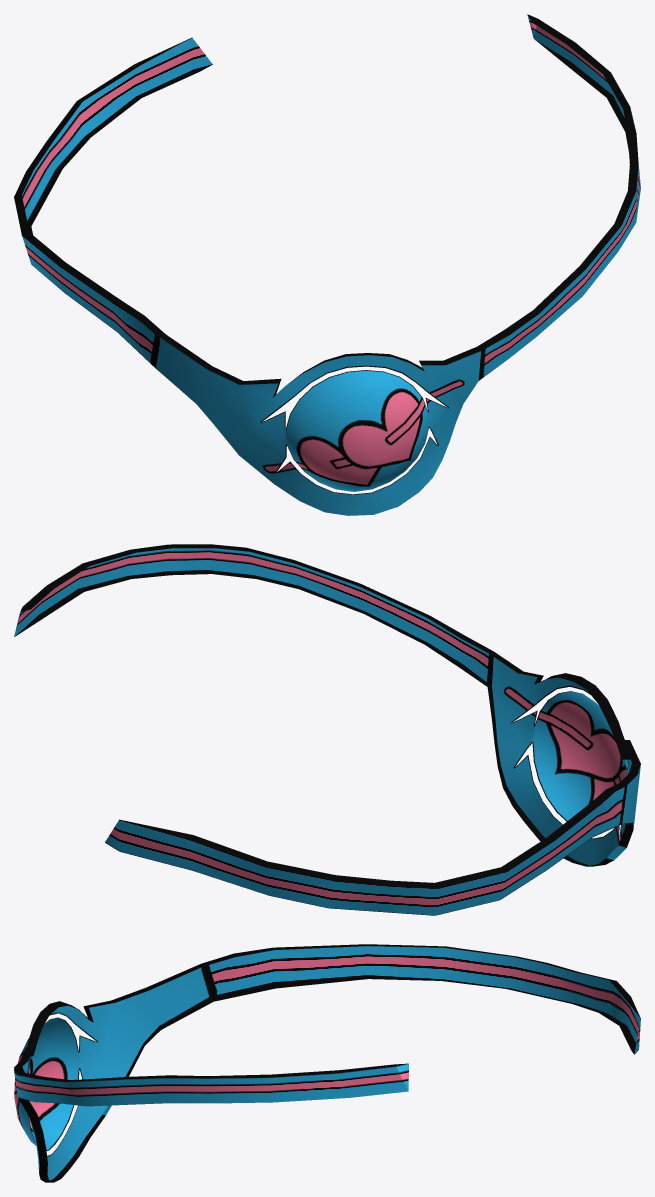
File: _headwear_004_bilibili.fbx
3 views of the same model, one above another, from view 1: azimuth 30°, elevation 25°; view 2: azimuth 150°, elevation 25°; view 3: azimuth 270°, elevation 25° (orthographic). The views are drawn at different scales.
Parts seen in each view (by area): view 1: f_headwear_004_bilibili; view 2: f_headwear_004_bilibili; view 3: f_headwear_004_bilibili.
Boxes of the visible parts, x1,y1,x2,y2 form: f_headwear_004_bilibili: (14,14,640,515); f_headwear_004_bilibili: (14,544,640,915); f_headwear_004_bilibili: (14,944,640,1182).
Bounding box in the file's own units: 16.68 × 8.95 × 18.54.
